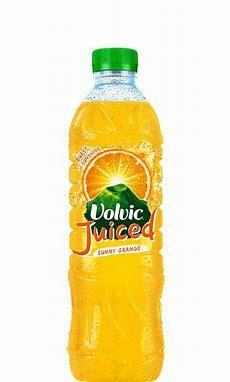plastic_bottle: (66, 46, 168, 382)
